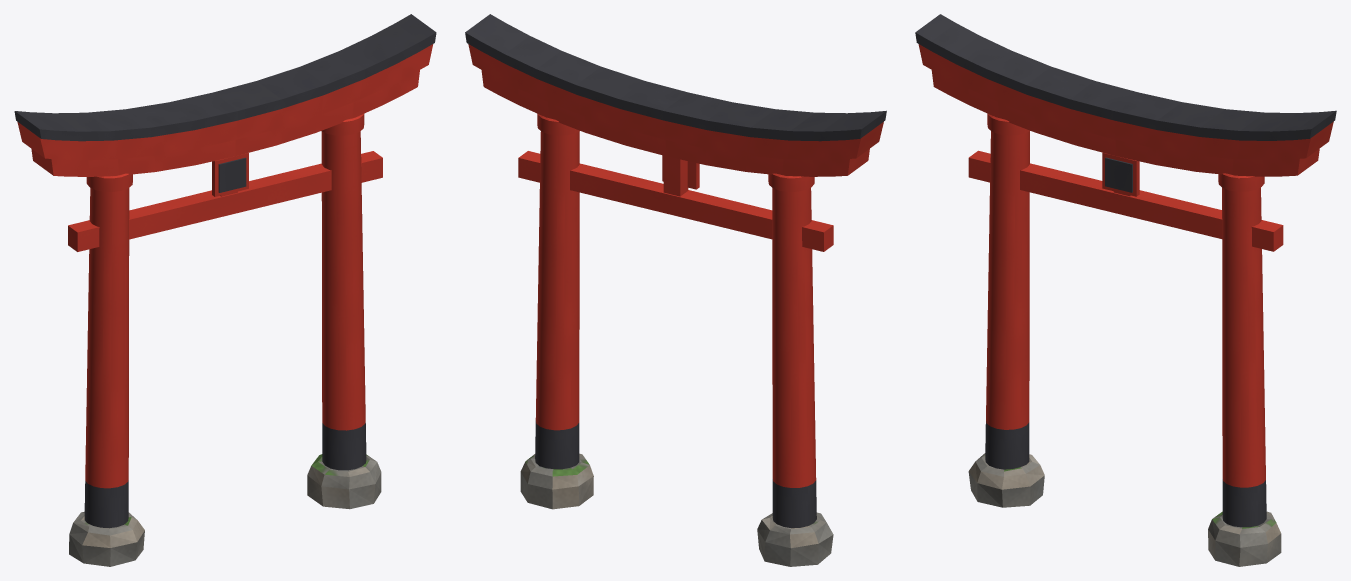
File: torii.fbx
3 renders of one model, left to right at view 1: azimuth 30°, elevation 25°; view 2: azimuth 150°, elevation 25°; view 3: azimuth 330°, elevation 25°, orthographic.
Visible parts, largest first — view 1: torii_Lacquer, torii_Black, torii_Stone; view 2: torii_Lacquer, torii_Black, torii_Stone; view 3: torii_Lacquer, torii_Black, torii_Stone.
Part boxes in pixels (box(x1,y1,x2,y2)): torii_Lacquer: box(17, 44, 433, 488); torii_Black: box(14, 14, 436, 528); torii_Stone: box(69, 454, 381, 566); torii_Lacquer: box(468, 44, 883, 487); torii_Black: box(465, 14, 886, 528); torii_Stone: box(520, 453, 833, 566); torii_Lacquer: box(918, 44, 1333, 487); torii_Black: box(915, 14, 1336, 527); torii_Stone: box(968, 453, 1281, 566).
Bounding box in the file's own units: 20 × 21.75 × 3.14.
1 material, 1 textured.
